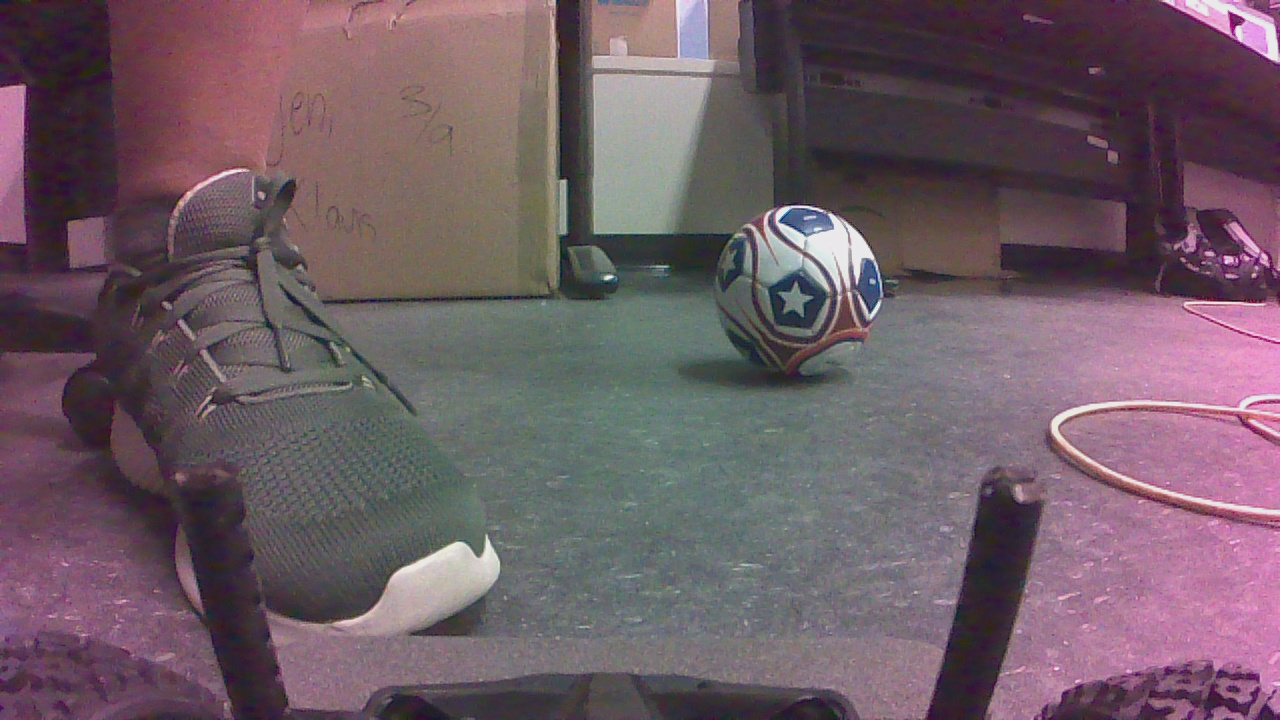ball: (716, 205, 891, 388)
